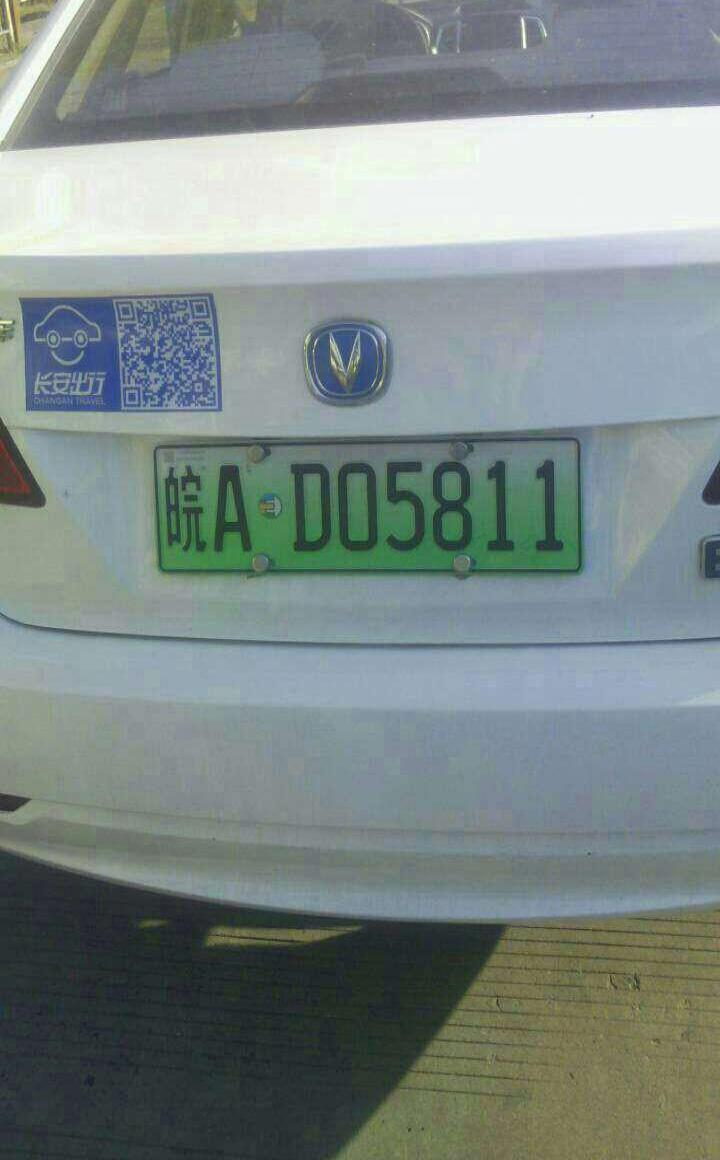car_id: (155, 446, 577, 570)
